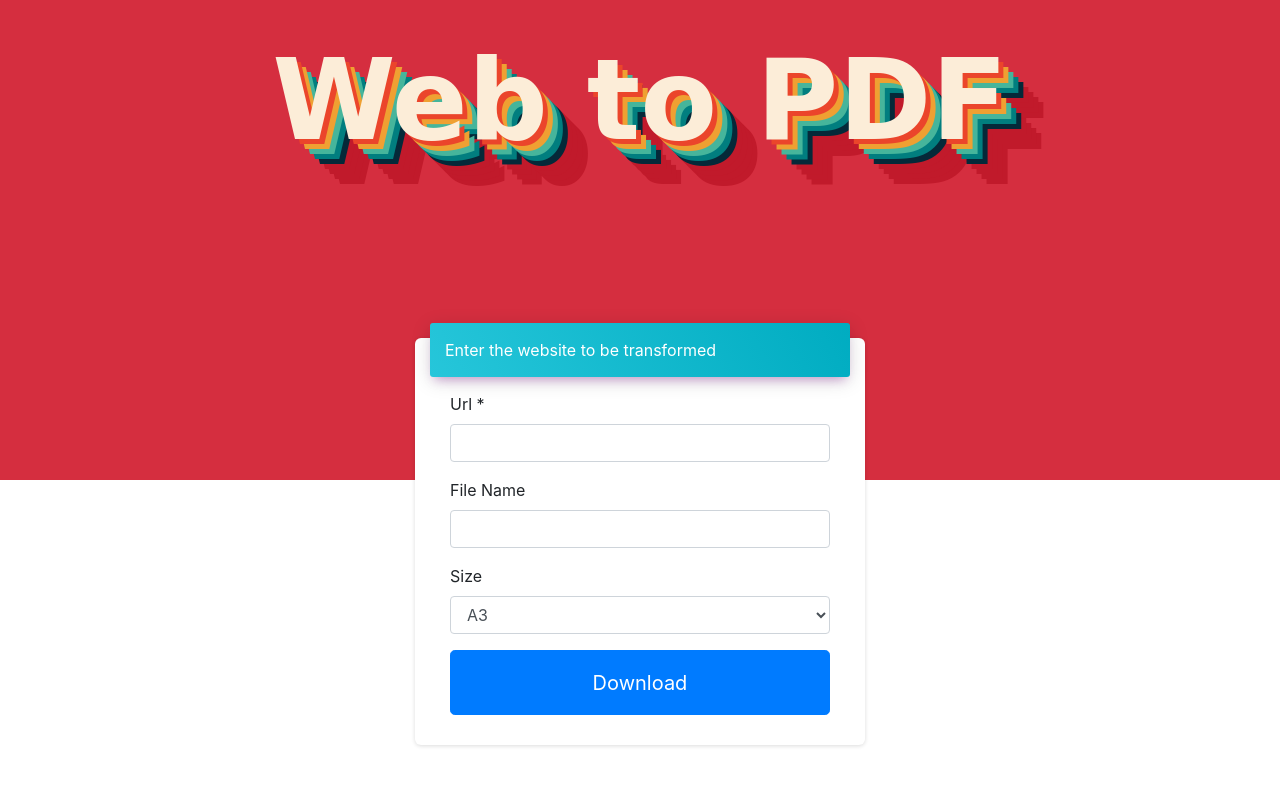
Scenario: Validate mandatory fields
Expected: the text "Cannot be blank!" is not shown
Click the button "Download".
click(640, 682)  # box [450,650,830,715]
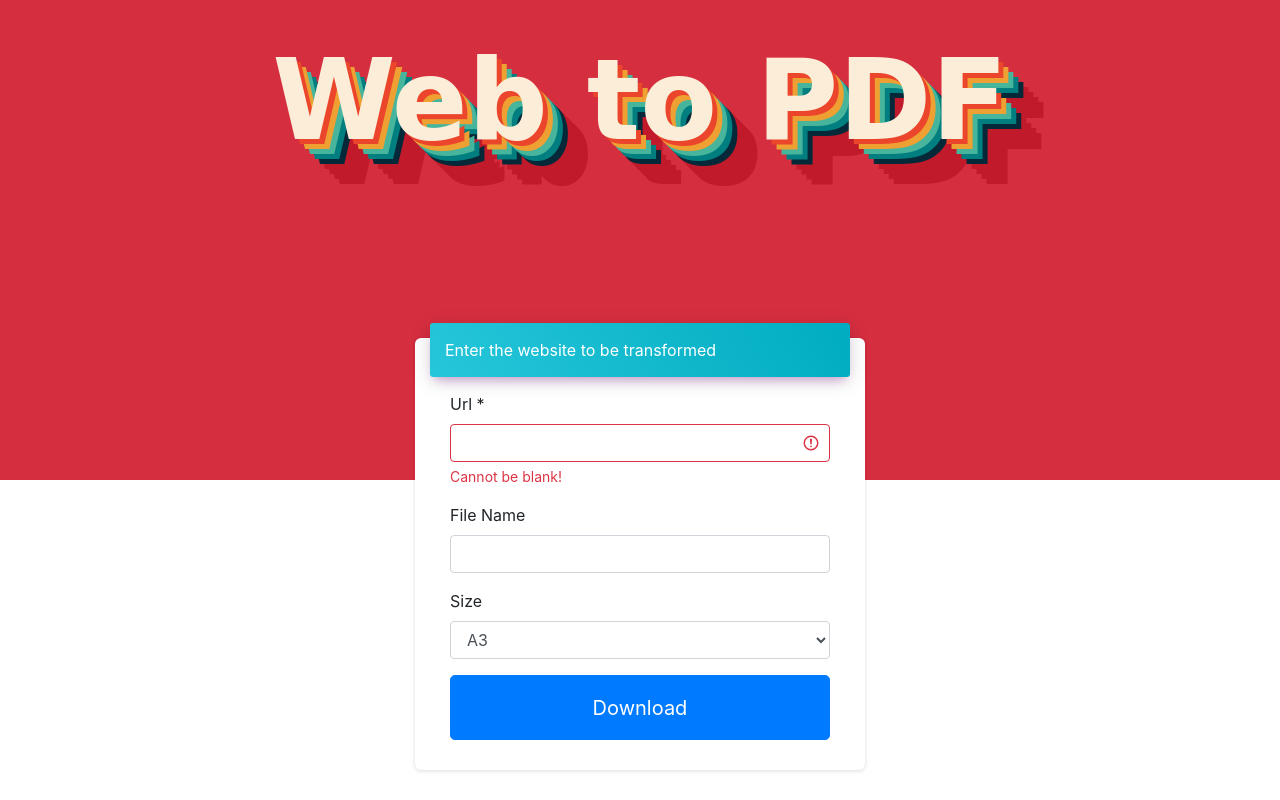
Result: the text "Cannot be blank!" is shown at [450,468,562,485]
